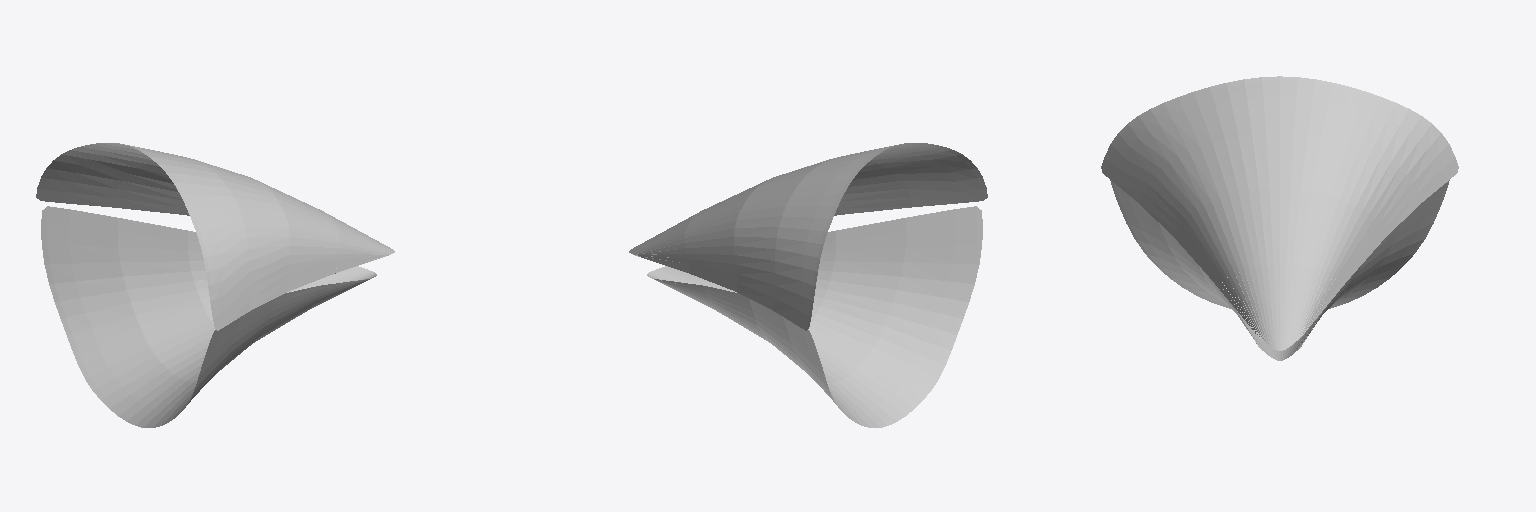
Rendered from peak.obj.
The picture shows the model from 3 angles: view 1: azimuth 30°, elevation 25°; view 2: azimuth 150°, elevation 25°; view 3: azimuth 270°, elevation 25°; orthographic projection.
Visible parts, largest first — view 1: Cone; view 2: Cone; view 3: Cone.
Part boxes in pixels (bbox=[...]): Cone: bbox=[36, 143, 394, 427]; Cone: bbox=[629, 143, 987, 427]; Cone: bbox=[1101, 76, 1458, 360].
Bounding box in the file's own units: 0.7279 × 0.6389 × 0.8175.